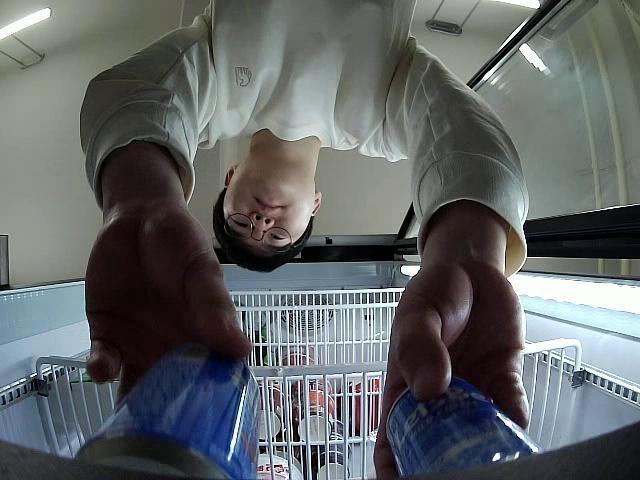15_letsbe: (78, 341, 260, 480), (383, 373, 544, 480)
